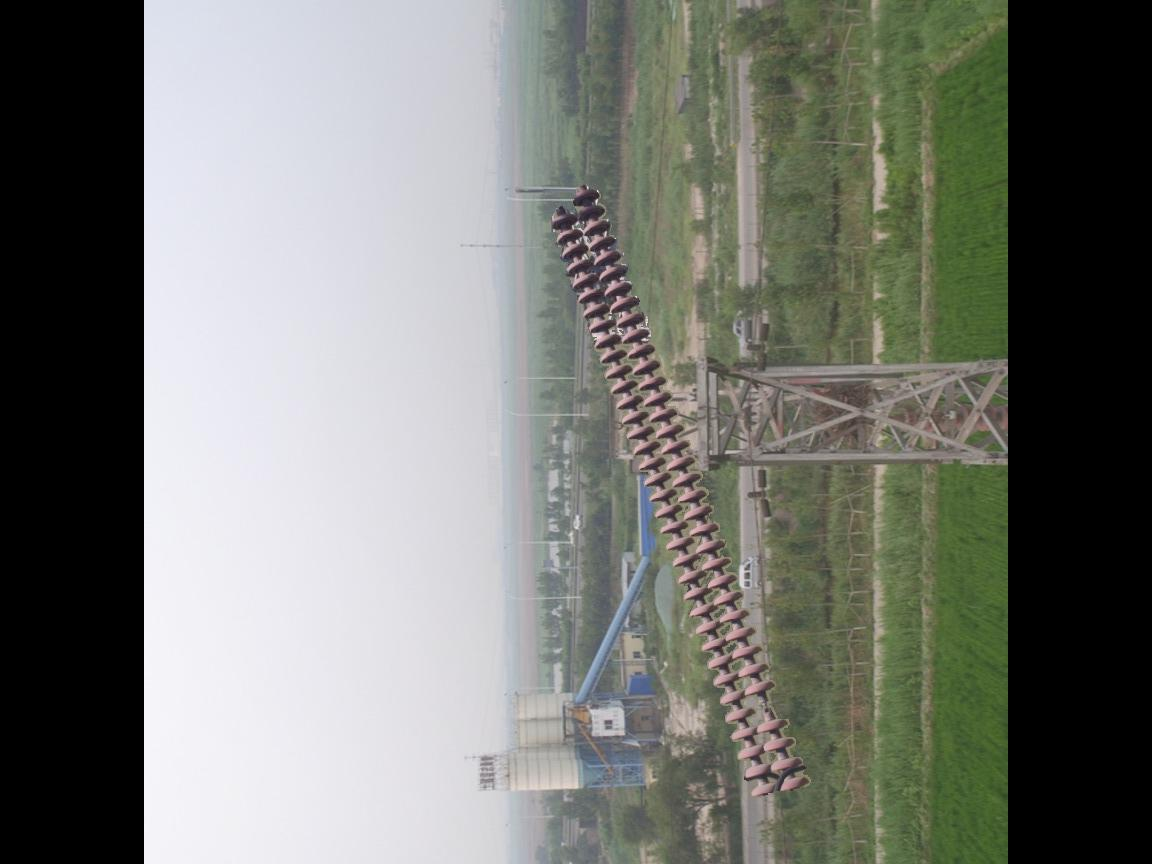insulator: (547, 184, 816, 803), (913, 397, 1008, 438)
insulator_stringdrop: (741, 677, 793, 737)
